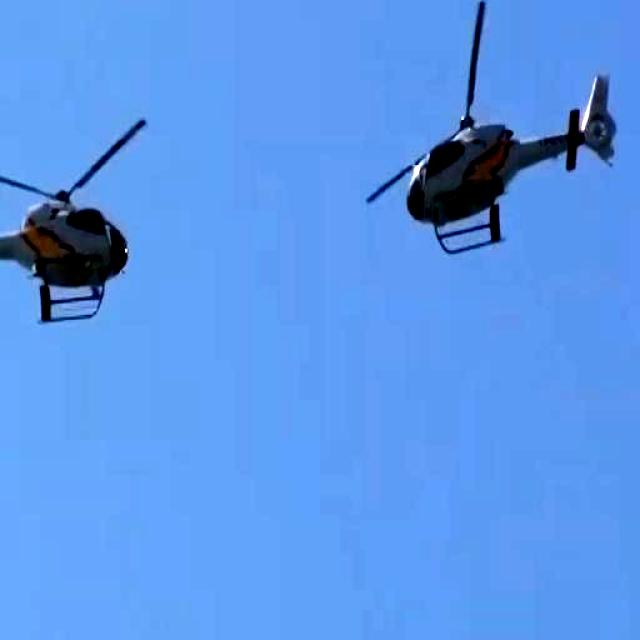drone: (388, 15, 630, 265), (0, 125, 139, 341)
